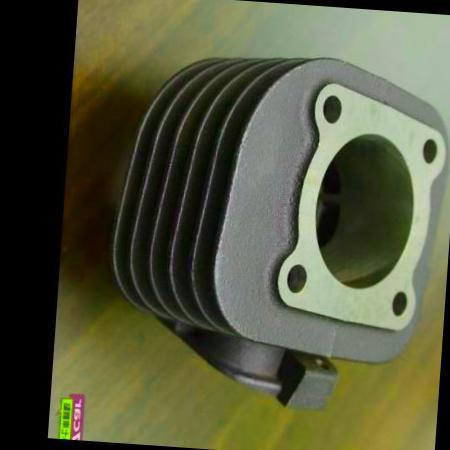hole: (317, 91, 344, 128), (284, 262, 310, 300)
